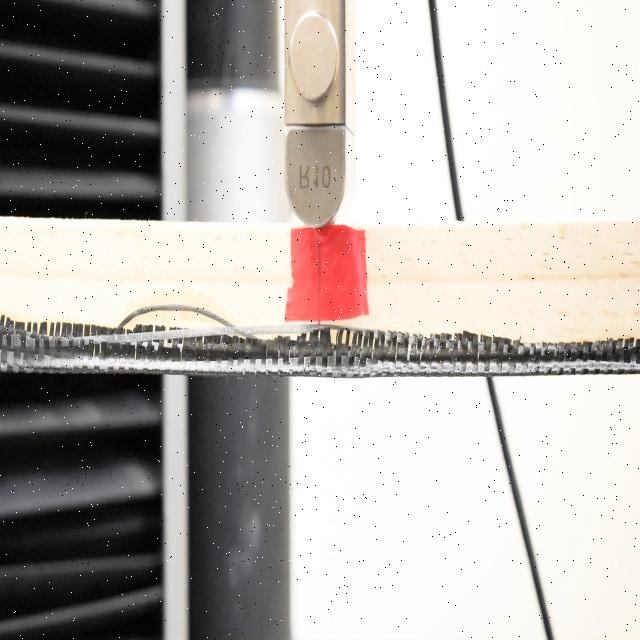wood: (0, 215, 638, 373)
